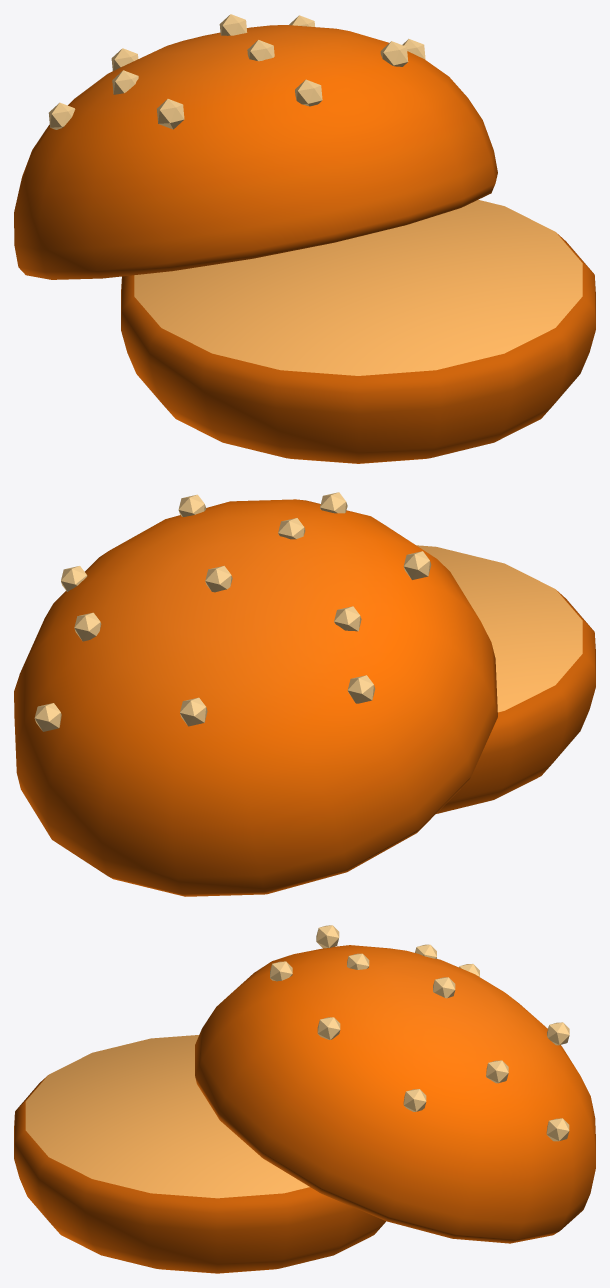
File: Bun_01.fbx
3 renders of one model, top to bottom at view 1: azimuth 30°, elevation 25°; view 2: azimuth 150°, elevation 25°; view 3: azimuth 270°, elevation 25°, orthographic. The views are drawn at different scales.
Visible parts, largest first — view 1: Bun_01; view 2: Bun_01; view 3: Bun_01.
Part boxes in pixels (box(x1,y1,x2,y2)): Bun_01: box(14, 14, 595, 463); Bun_01: box(14, 492, 595, 896); Bun_01: box(14, 925, 595, 1273).
Size of the model in its own units: 58.92 by 37.34 by 81.24.
